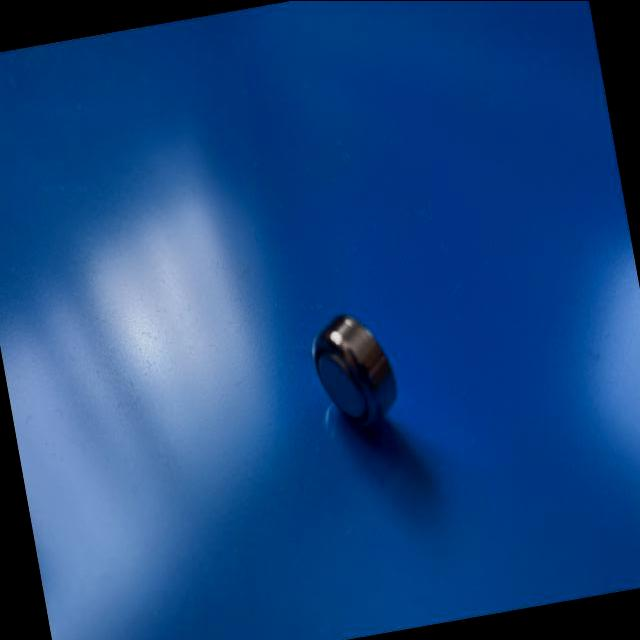COIN: (304, 306, 405, 436)
